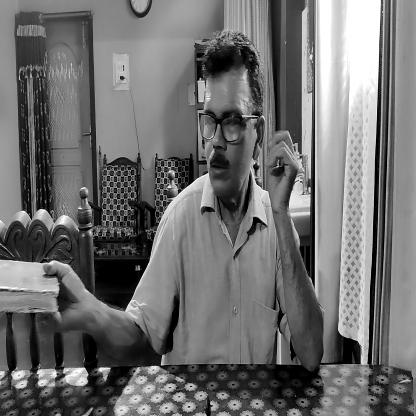Distracted: (201, 51, 261, 206)
